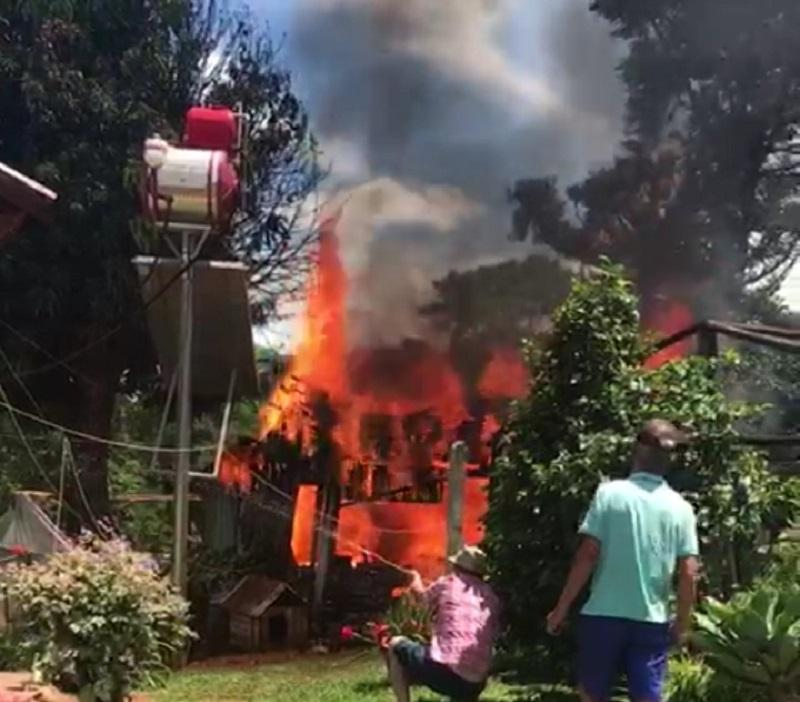fire: (300, 499, 482, 562), (287, 279, 346, 411)
